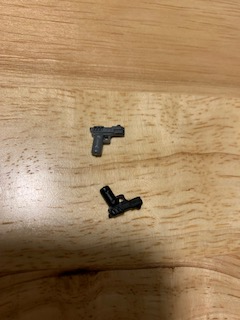pistol: (84, 123, 128, 158), (98, 185, 143, 218)
